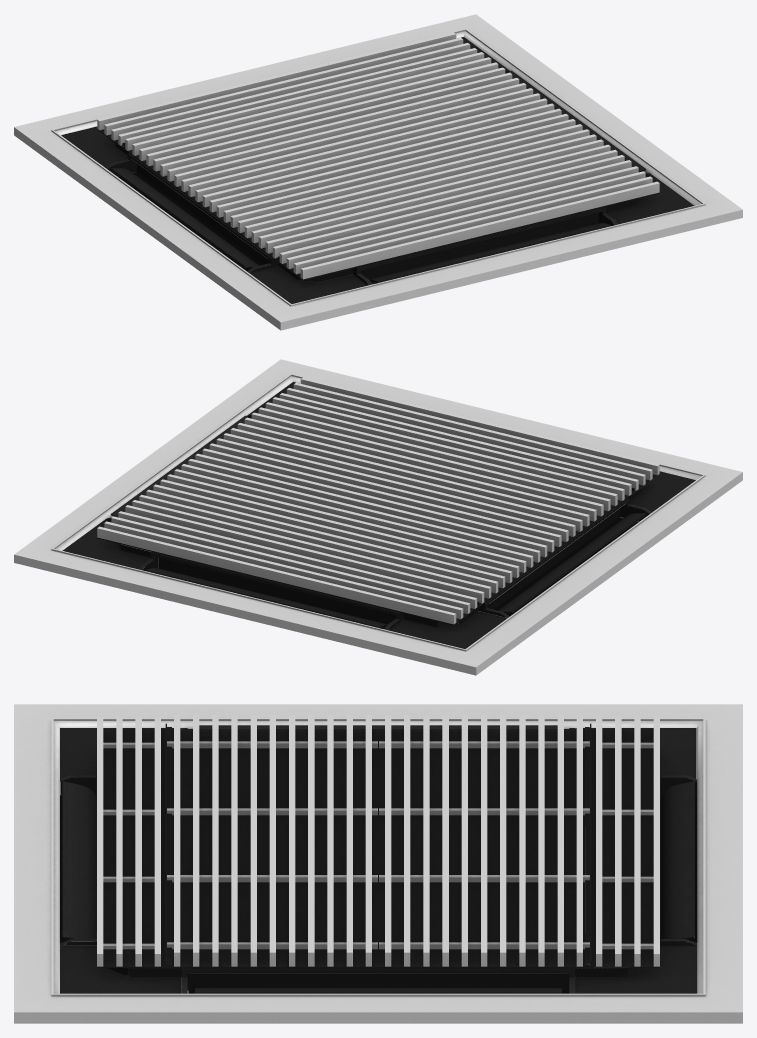
File: aircon_WH.glb
3 renders of one model, top to bottom at view 1: azimuth 30°, elevation 25°; view 2: azimuth 150°, elevation 25°; view 3: azimuth 270°, elevation 25°, orthographic. The views are drawn at different scales.
Parts seen in each view (by area): view 1: 01; view 2: 01; view 3: 01.
Part boxes in pixels (left/top/right/bottom): 01: left=14, top=14, right=742, bottom=330; 01: left=14, top=359, right=742, bottom=675; 01: left=14, top=704, right=742, bottom=1023.
Bounding box in the file's own units: 0.95 × 0.0628 × 0.95.
1 material, 1 textured.
